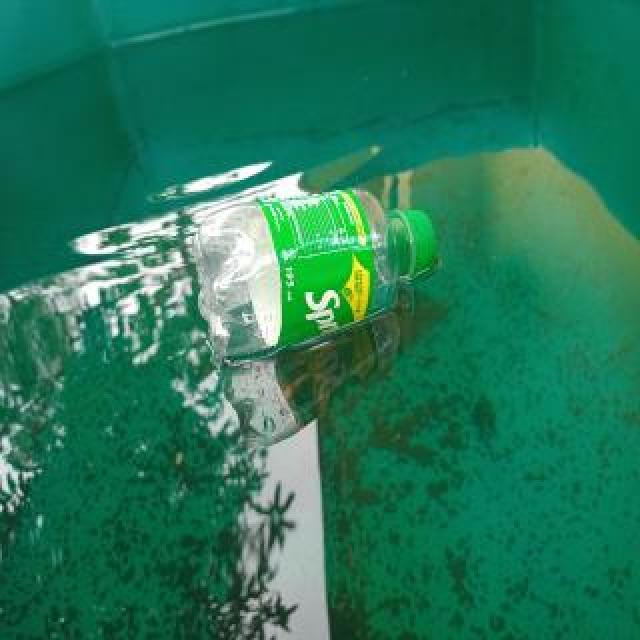Plastic Bottle: (189, 179, 441, 365)
